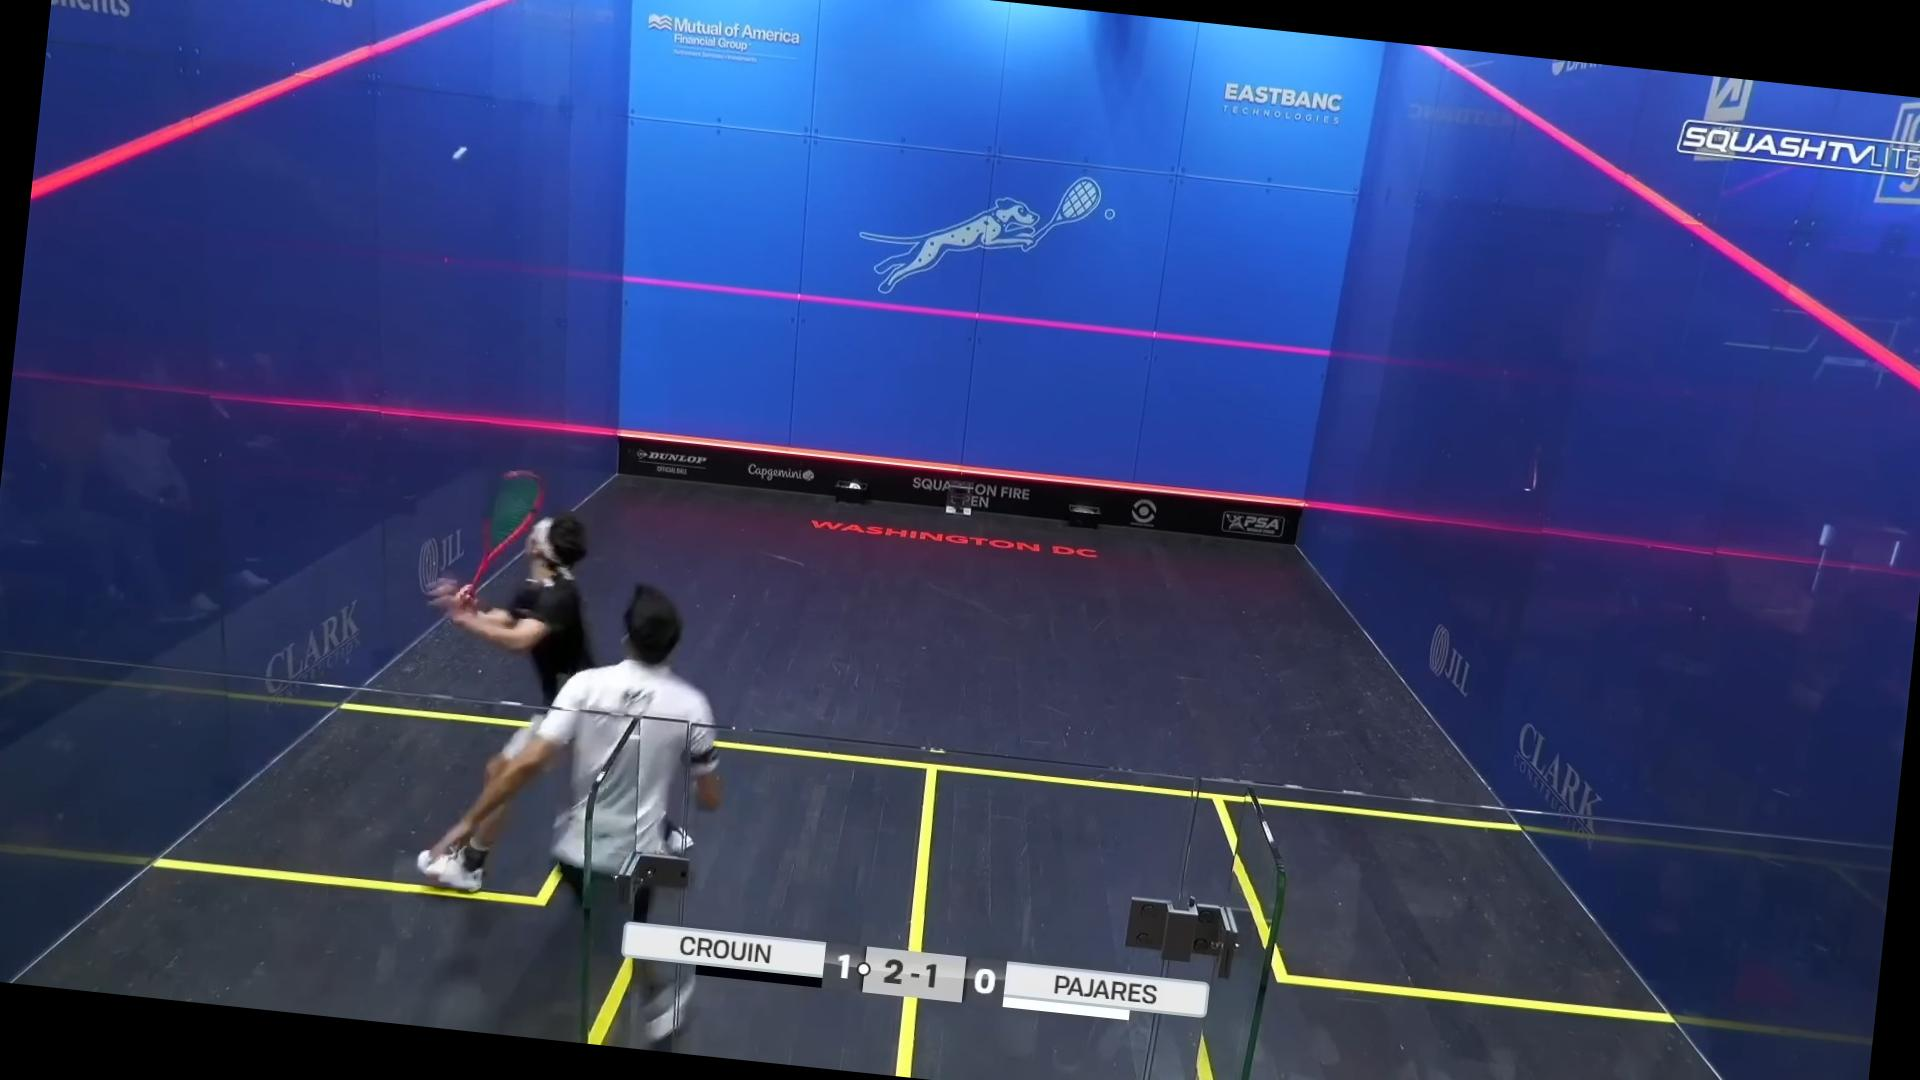Squash-Ball: (434, 127, 485, 182)
